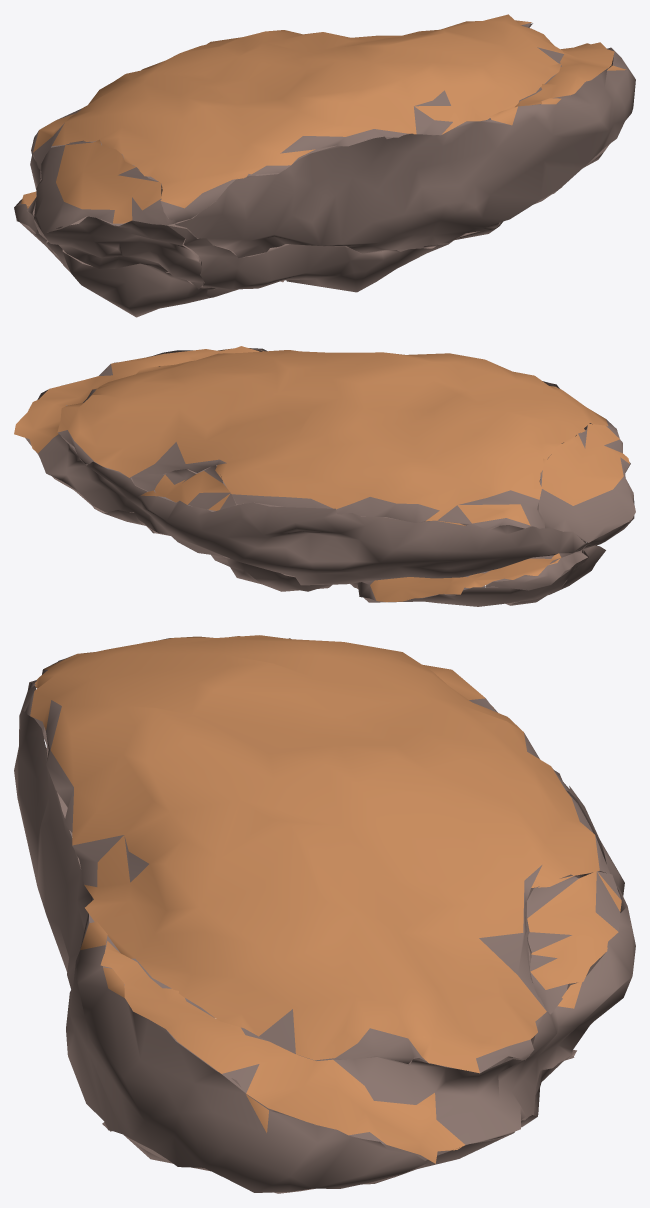
The model's file is rock_slab_a.glb.
3 views of the same model, one above another, from view 1: azimuth 30°, elevation 25°; view 2: azimuth 150°, elevation 25°; view 3: azimuth 270°, elevation 25° (orthographic). The views are drawn at different scales.
Parts seen in each view (by area): view 1: rock_slab_a-convcol; view 2: rock_slab_a-convcol; view 3: rock_slab_a-convcol.
Part boxes in pixels (bbox=[...]): rock_slab_a-convcol: bbox=[14, 14, 635, 317]; rock_slab_a-convcol: bbox=[14, 346, 635, 606]; rock_slab_a-convcol: bbox=[14, 635, 635, 1193].
Bounding box in the file's own units: 2 × 0.6219 × 1.09.
